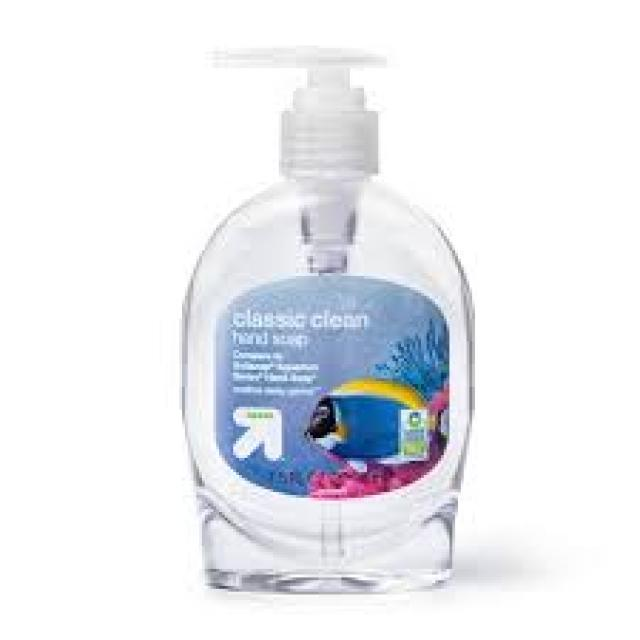liquid soap: (183, 37, 477, 606)
